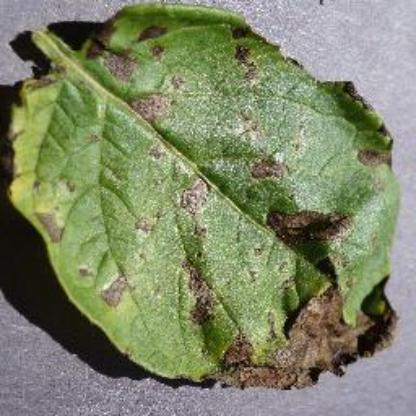Early-Blight: (5, 4, 400, 394)
